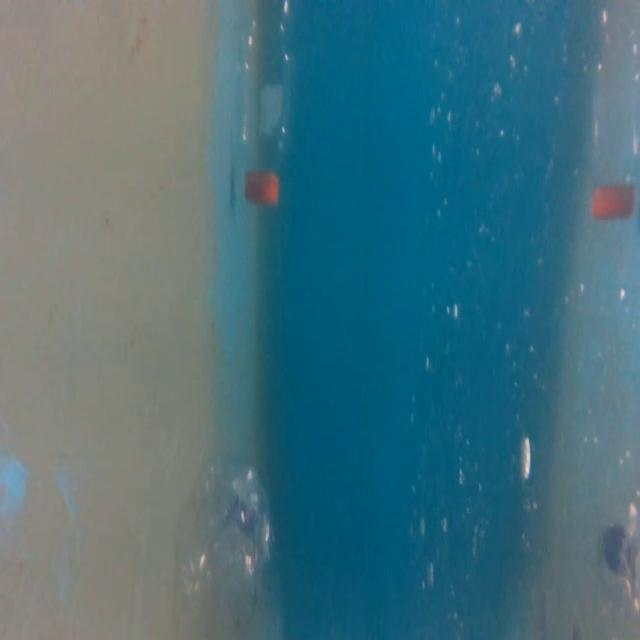plastic bags: (175, 447, 272, 605)
plastic bottle: (232, 0, 299, 209)
